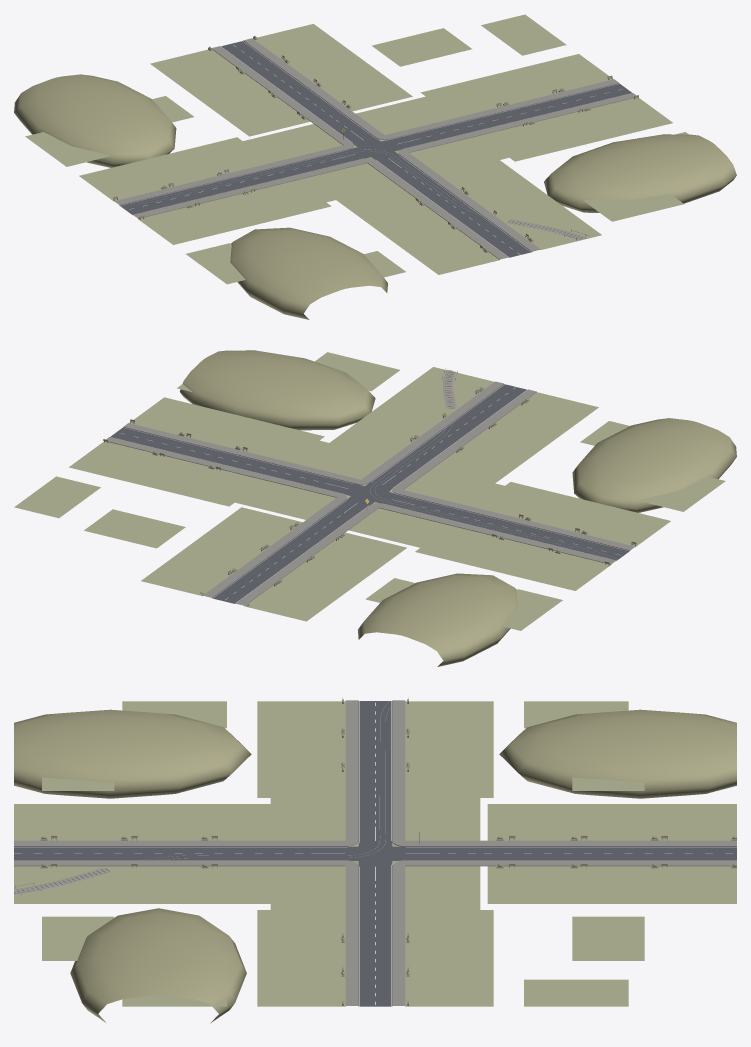
3 views of the same model, one above another, from view 1: azimuth 30°, elevation 25°; view 2: azimuth 150°, elevation 25°; view 3: azimuth 270°, elevation 25° (orthographic). The views are drawn at different scales.
Visible parts, largest first — view 1: static; view 2: static; view 3: static.
Boxes of the visible parts, x1=… form: static: x1=14, y1=14, x2=736, y2=319; static: x1=14, y1=350, x2=736, y2=666; static: x1=14, y1=697, x2=736, y2=1023.
Size of what is drawn, in the model's own units: 180 by 14.08 by 180.
Materials: 3 (2 with a texture image).
